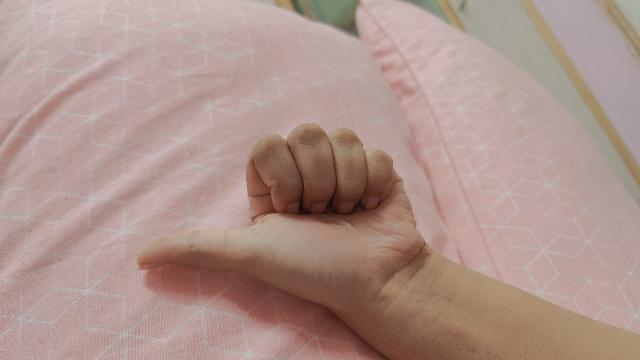shikhar: (137, 127, 640, 360)
